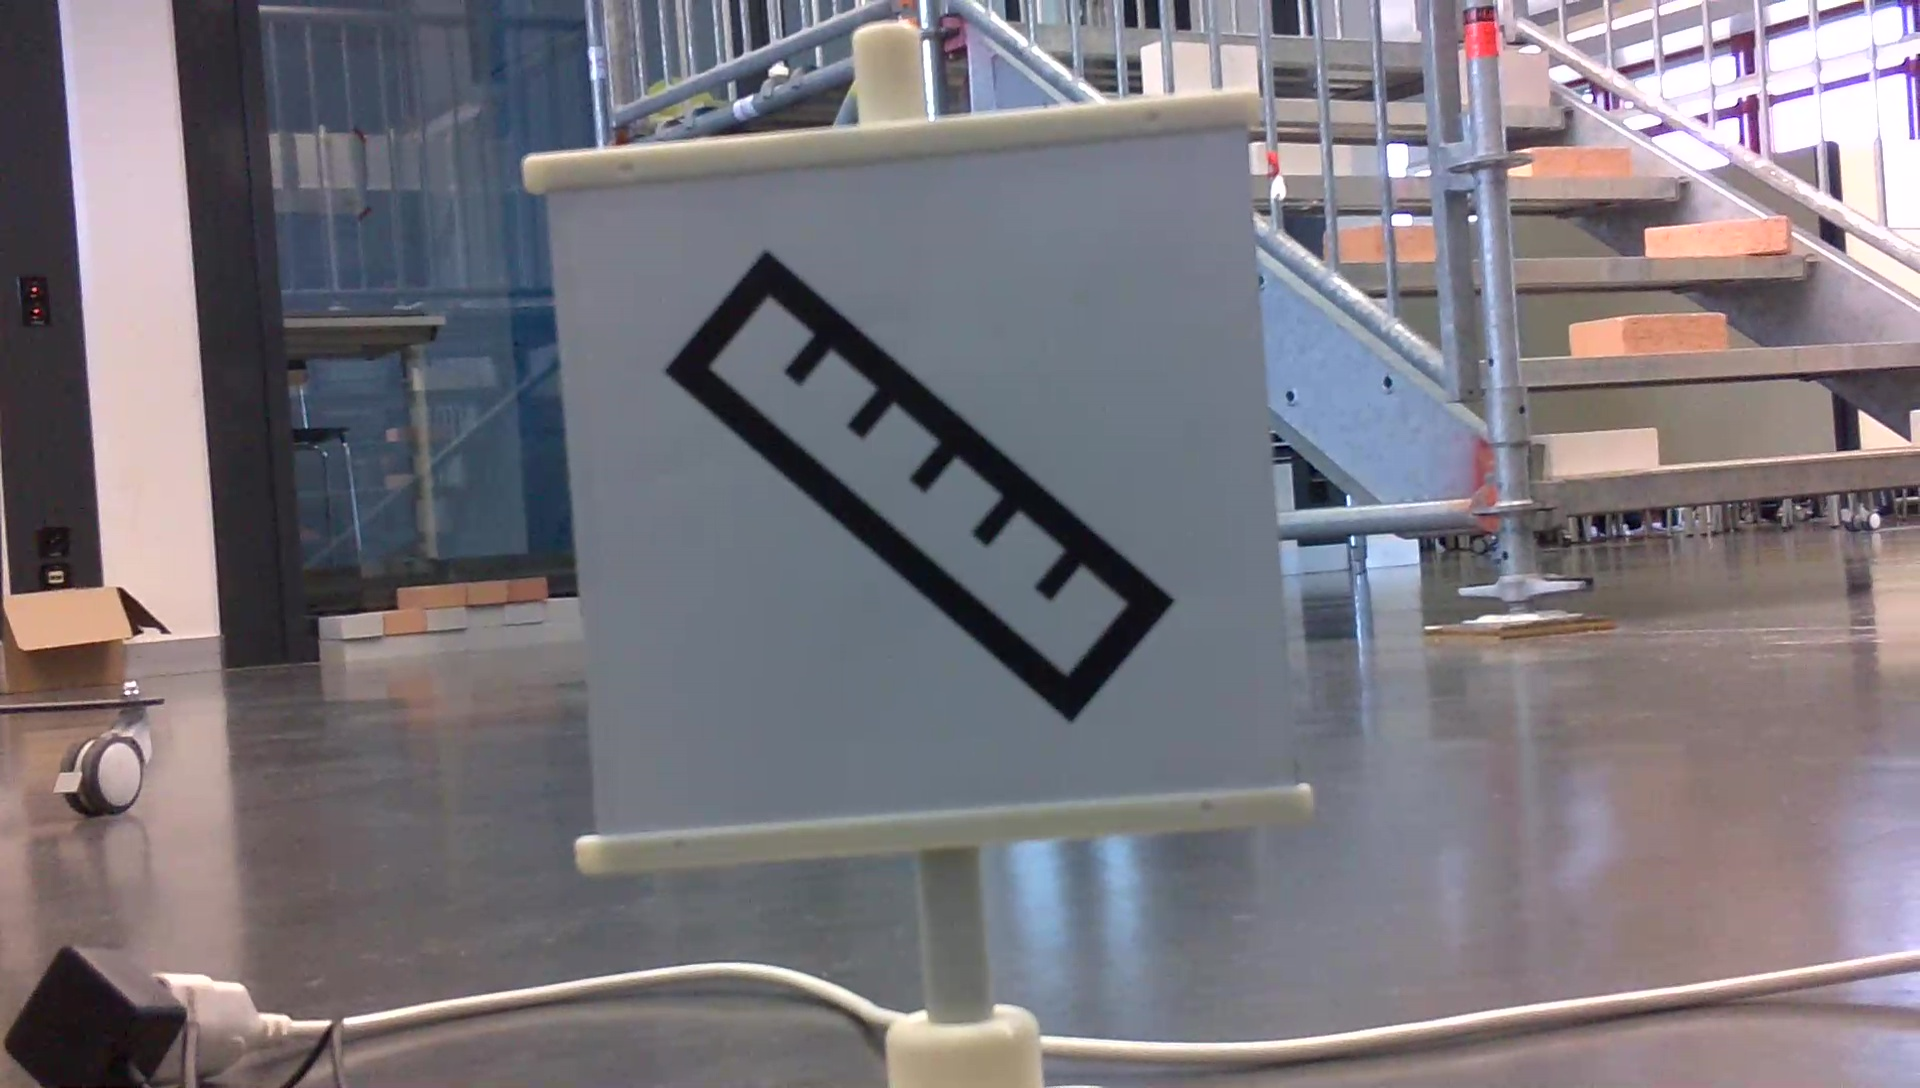brick: (1571, 305, 1739, 361), (1633, 214, 1788, 258), (1532, 429, 1655, 481), (1510, 138, 1635, 181)
edge: (1538, 443, 1920, 524), (1534, 339, 1920, 397), (1493, 257, 1807, 291)
ruler: (665, 231, 1191, 719)
